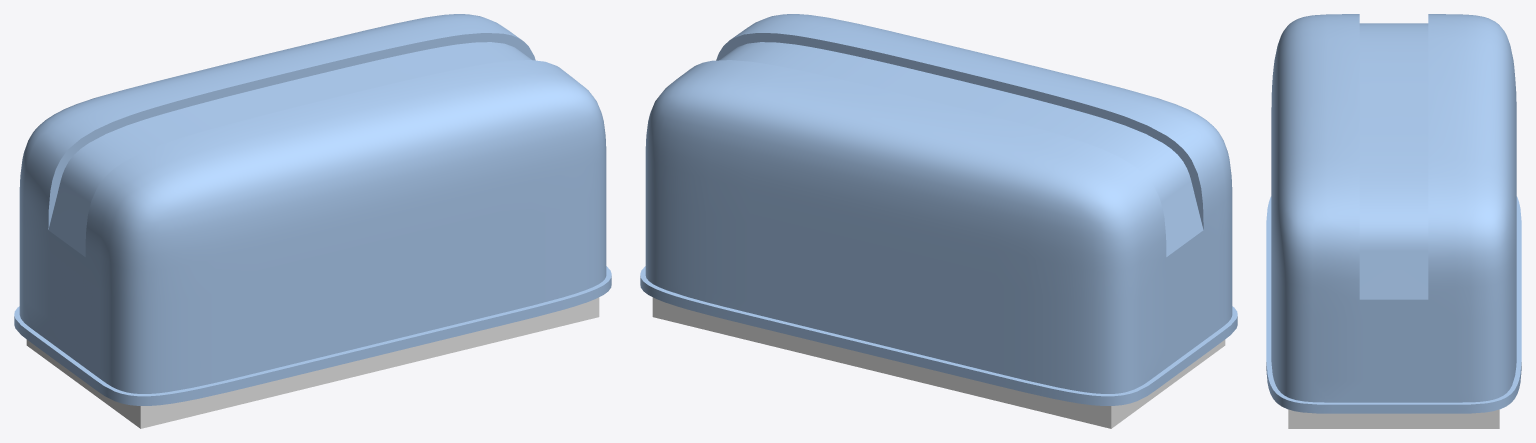
Rendered from 1080_whiteboard_eraser.glb.
The picture shows the model from 3 angles, left to right: view 1: azimuth 30°, elevation 25°; view 2: azimuth 150°, elevation 25°; view 3: azimuth 270°, elevation 25°; orthographic projection. The views are drawn at different scales.
Parts seen in each view (by area): view 1: Body; view 2: Body; view 3: Body.
Boxes of the visible parts, <box> form: Body: <box>14,14,611,428</box>; Body: <box>640,14,1237,428</box>; Body: <box>1266,14,1521,428</box>.
Bounding box in the file's own units: 0.1077 × 0.0506 × 0.0512.
